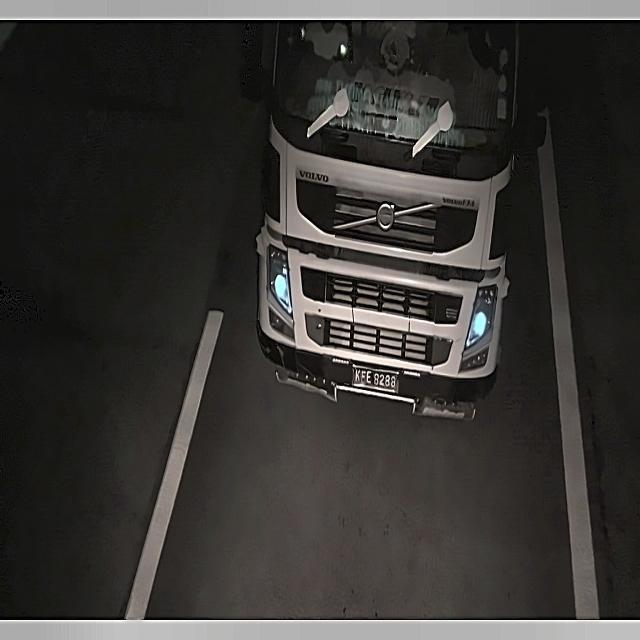car: (346, 356, 406, 397)
